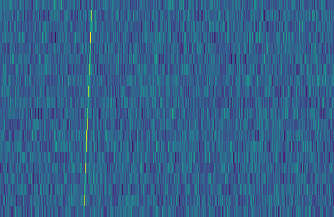signal: (77, 0, 95, 217)
